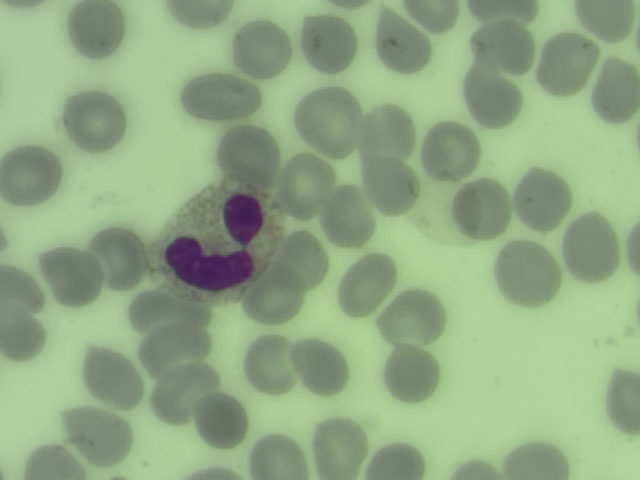RBC: (176, 73, 265, 126), (377, 343, 447, 405), (134, 320, 218, 370), (466, 18, 540, 74), (134, 280, 215, 331), (582, 60, 640, 129), (494, 437, 576, 480), (246, 429, 313, 480), (1, 301, 50, 368), (338, 254, 394, 312), (423, 122, 479, 180), (277, 155, 333, 213), (219, 123, 275, 181), (233, 19, 289, 77), (275, 228, 331, 286), (243, 268, 299, 326), (292, 336, 348, 394), (240, 333, 296, 391), (190, 389, 246, 447), (71, 406, 127, 464), (86, 349, 142, 407), (90, 226, 146, 284), (43, 247, 99, 305), (66, 91, 122, 149), (385, 289, 441, 347), (466, 70, 522, 128), (361, 152, 417, 210), (352, 99, 408, 157), (459, 184, 515, 242), (517, 169, 573, 227), (497, 244, 553, 302), (565, 218, 621, 276), (540, 35, 596, 93), (299, 90, 355, 148), (370, 14, 426, 72), (303, 13, 359, 71), (313, 419, 369, 477), (323, 189, 379, 247), (600, 356, 640, 436), (1, 147, 56, 205), (149, 367, 203, 426), (69, 1, 125, 57), (19, 439, 92, 480), (573, 1, 638, 43), (1, 260, 46, 318), (367, 440, 428, 480), (167, 1, 234, 30), (473, 1, 544, 28), (410, 1, 464, 34)
WBC: (157, 184, 273, 299)
